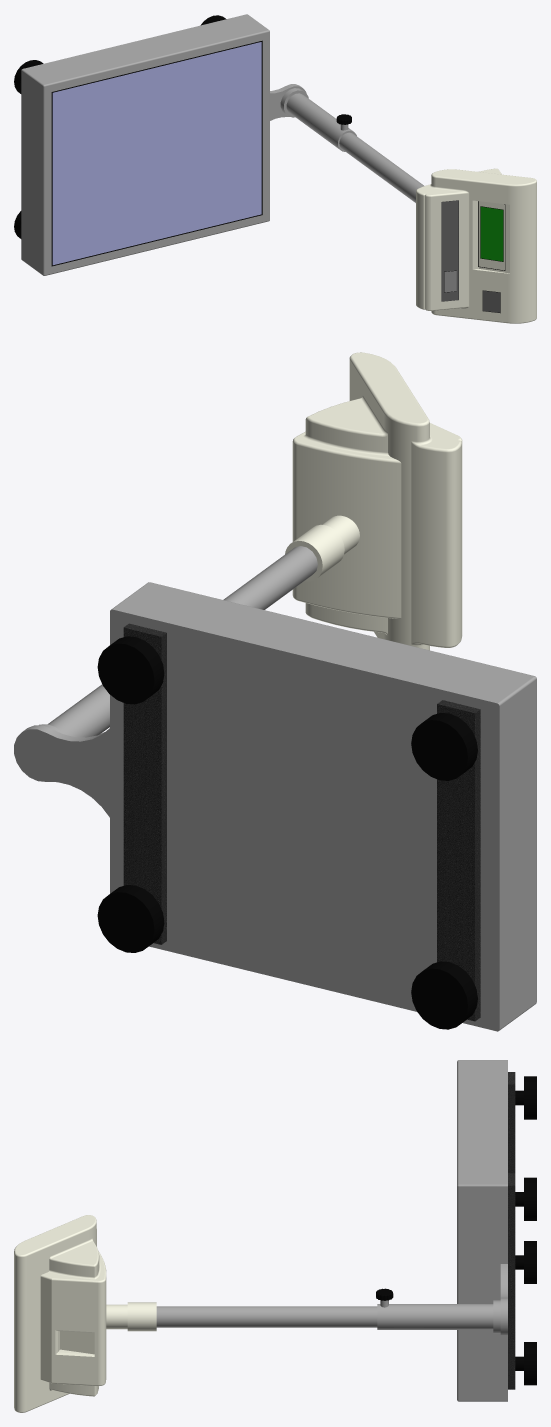
The picture shows the model from 3 angles, top to bottom: view 1: azimuth 30°, elevation 25°; view 2: azimuth 150°, elevation 25°; view 3: azimuth 270°, elevation 25°; orthographic projection. The views are drawn at different scales.
Visible parts, largest first — view 1: Solid1, Solid2; view 2: Solid1, Solid2; view 3: Solid1, Solid2.
Boxes of the visible parts, left/top/right/bottom form: Solid1: left=14, top=14, right=423, bottom=275; Solid2: left=416, top=168, right=536, bottom=323; Solid1: left=14, top=546, right=536, bottom=1031; Solid2: left=285, top=352, right=462, bottom=650; Solid1: left=156, top=1060, right=536, bottom=1401; Solid2: left=14, top=1215, right=156, bottom=1412.
Bounding box in the file's own units: 0.6897 × 0.4191 × 0.915.
Materials: 9 (2 with a texture image).
